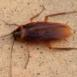cockroach: (12, 20, 71, 44)
